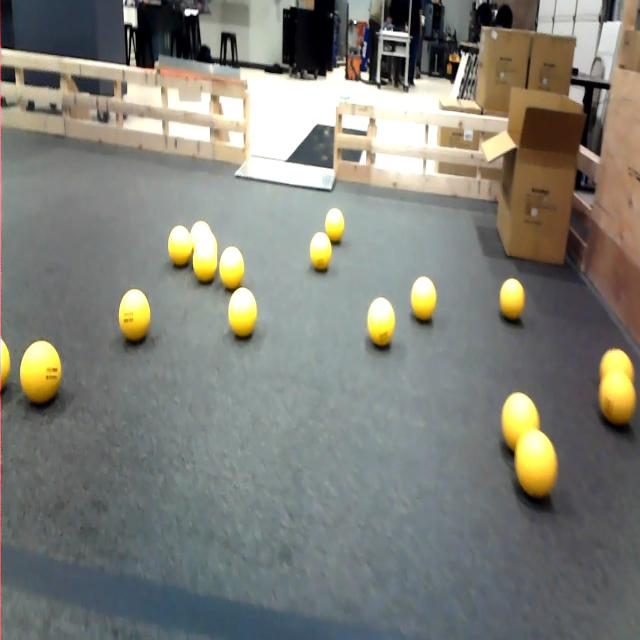fuel: (508, 424, 562, 516), (594, 363, 639, 437), (495, 382, 541, 448), (404, 267, 447, 332), (364, 298, 406, 362), (496, 267, 532, 334), (596, 338, 636, 391), (302, 221, 338, 279)
